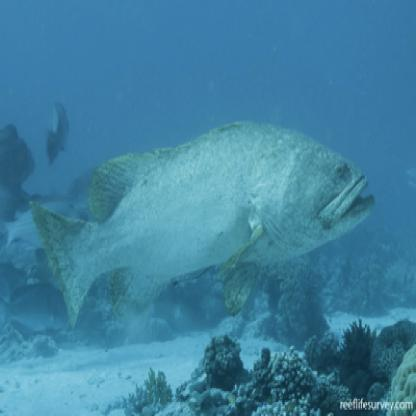Serranidae -Groupers-: (29, 113, 378, 327)
